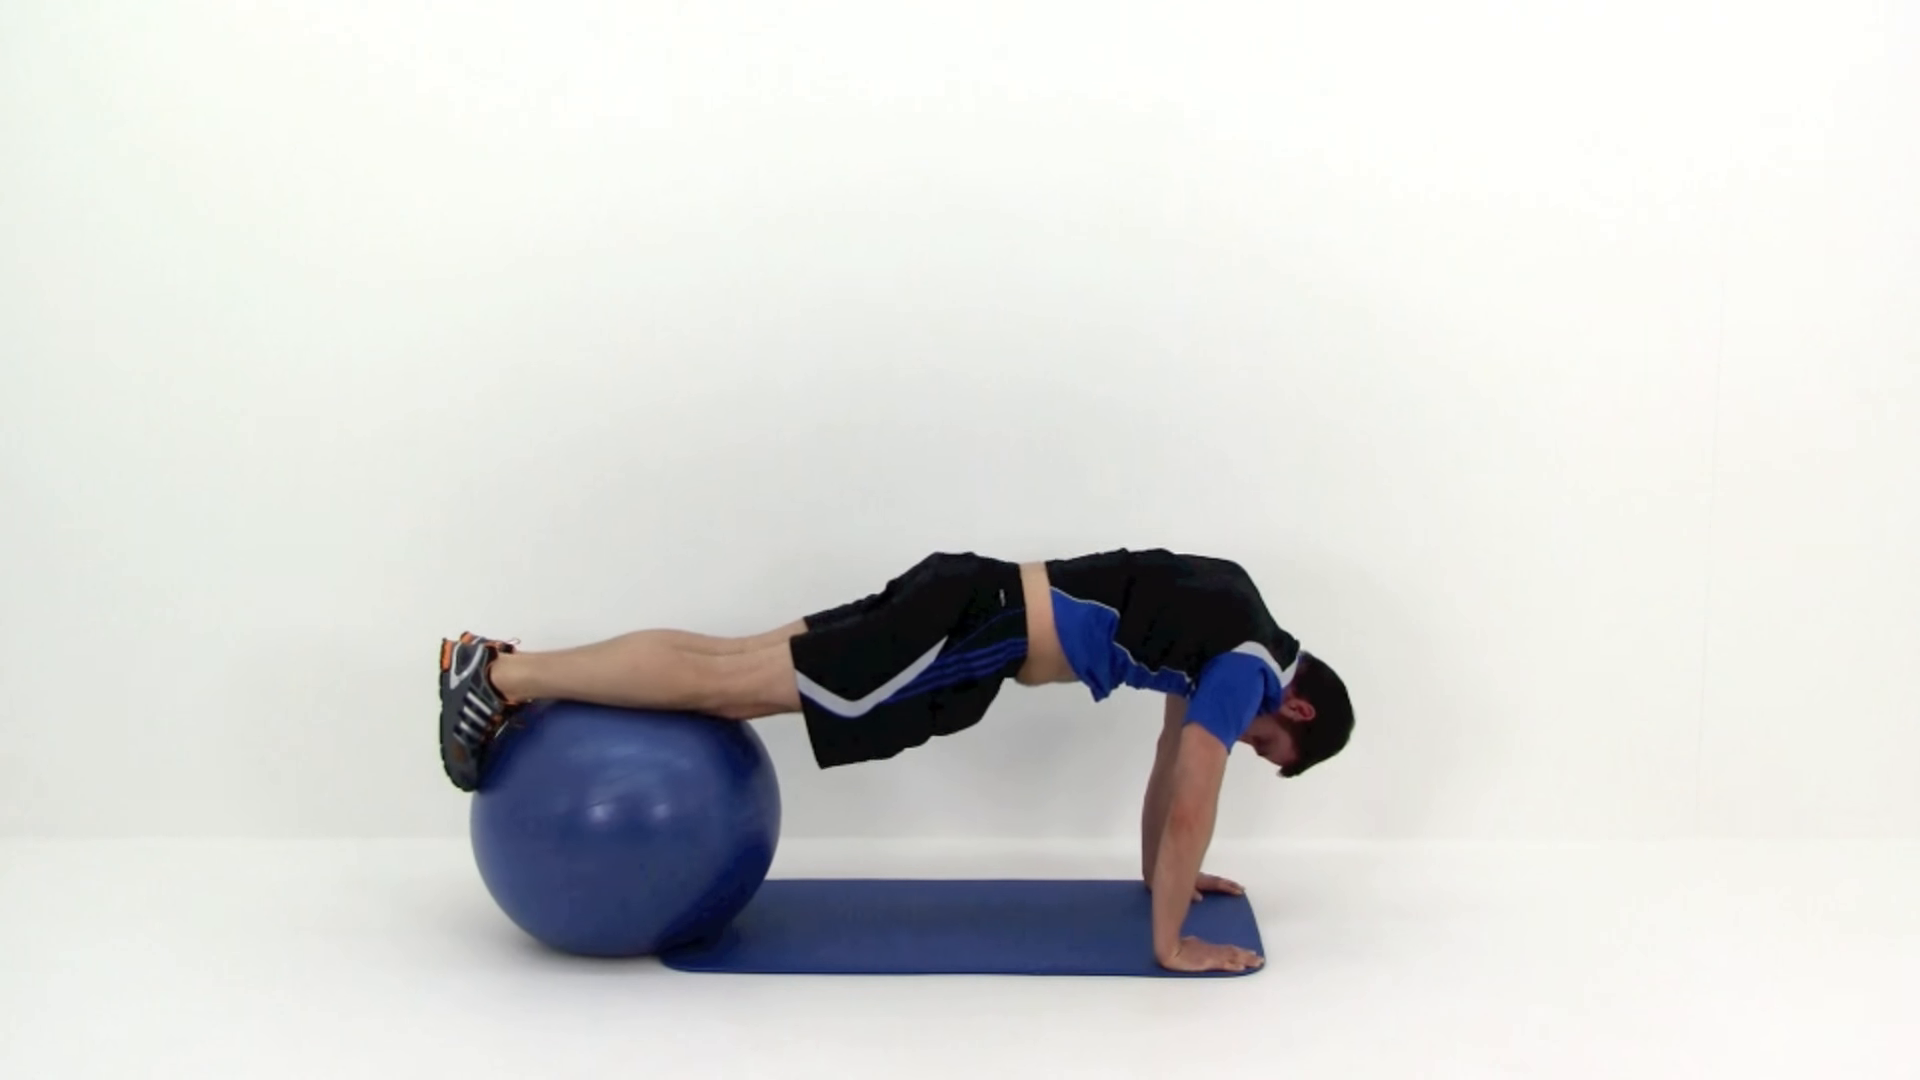yogaball: (460, 680, 789, 965)
